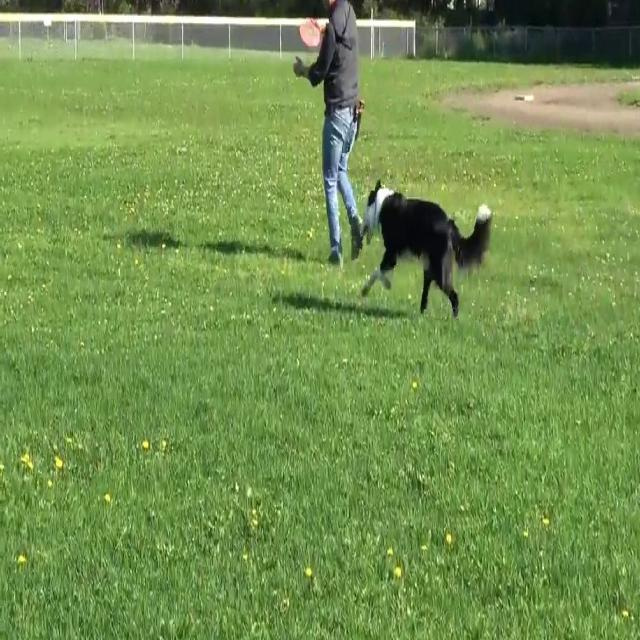Unleashed_Dog: (334, 119, 492, 323)
